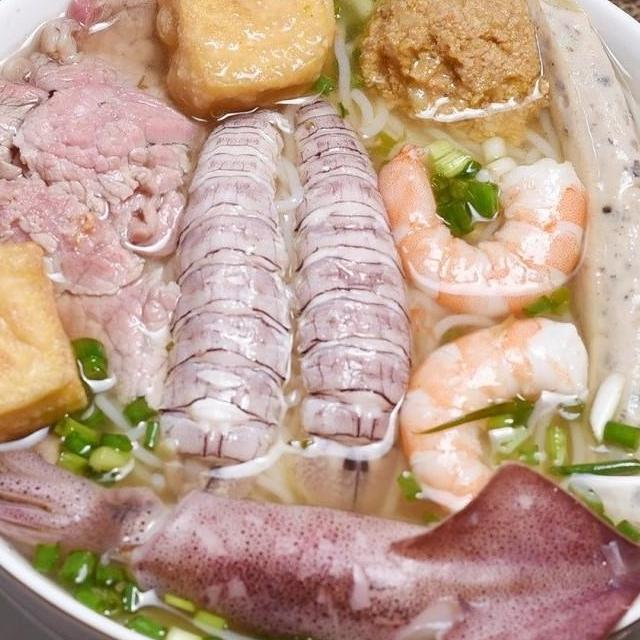bun: (321, 8, 425, 156)
bun hai san: (0, 0, 640, 640)
dau hu: (151, 0, 341, 127), (0, 232, 97, 461)
muc: (0, 436, 640, 640)
thit heo: (0, 152, 202, 423), (0, 68, 219, 192), (0, 0, 189, 114)
tom: (392, 312, 606, 524), (372, 138, 597, 326)
tom tit: (150, 95, 311, 512), (287, 84, 422, 530)
